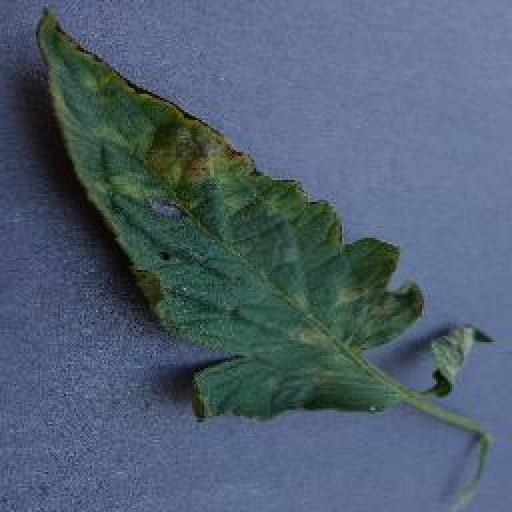disease_tomato: (33, 5, 424, 427)
